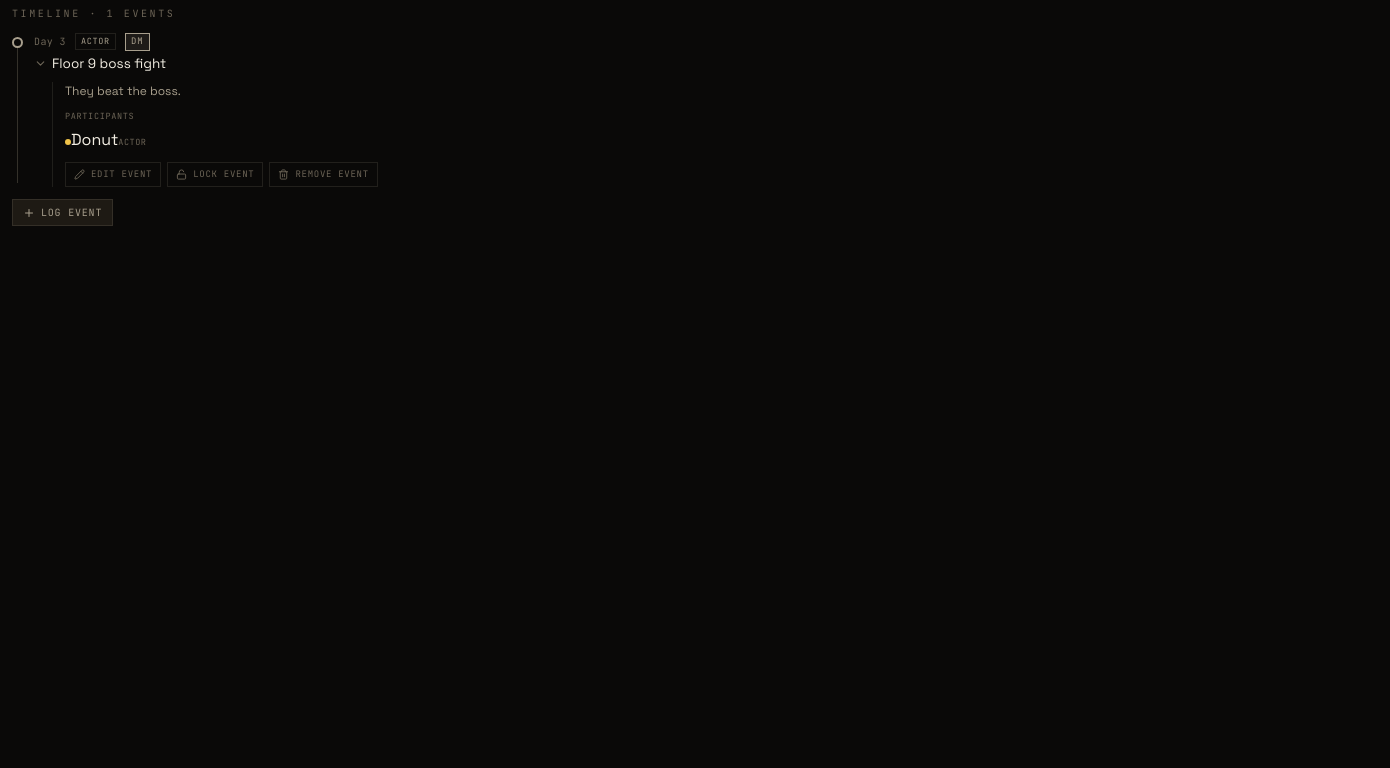
Test case: TimelinePanel › keeps the edit form open and shows the error when an event edit fails
Click the button "Edit event": (113, 174) [65, 162, 161, 187]
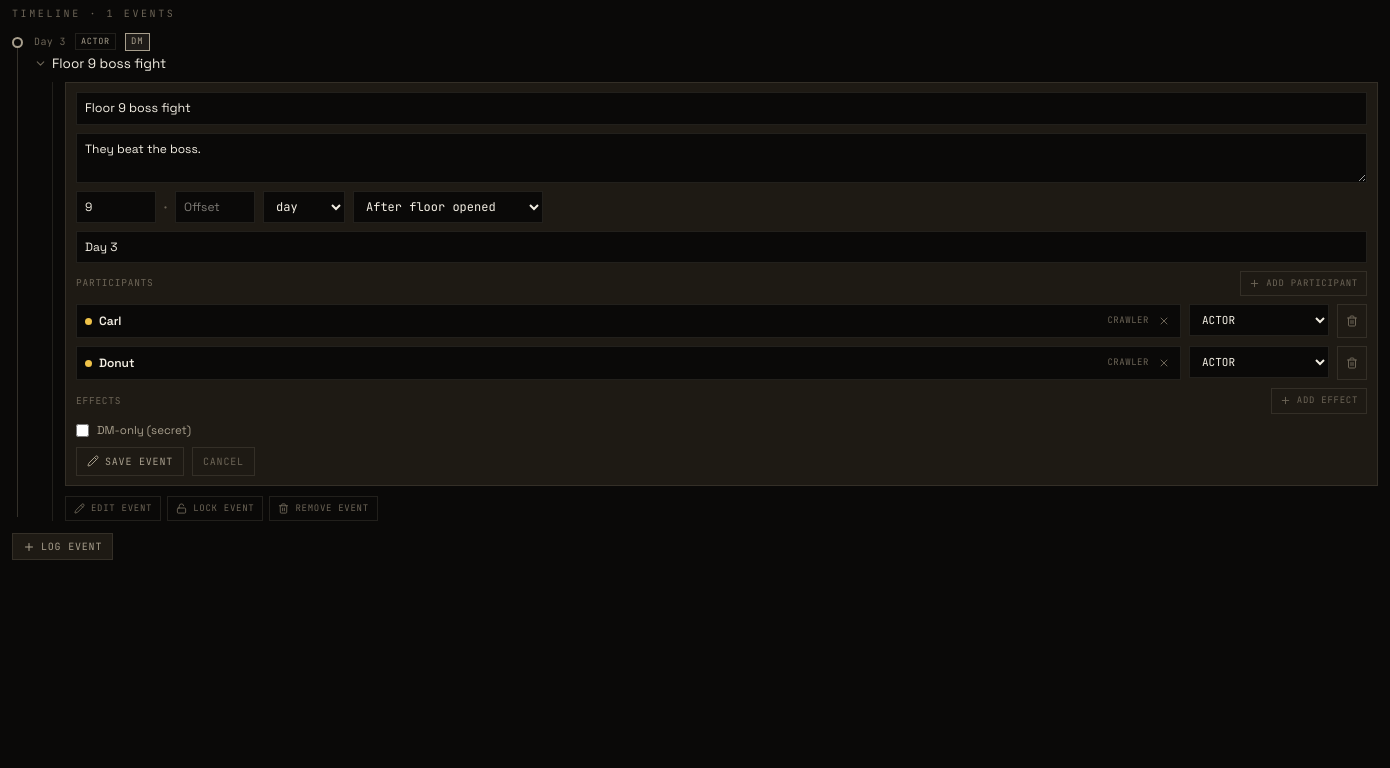
Submit the form named "Event title", box [76, 92, 1367, 439]
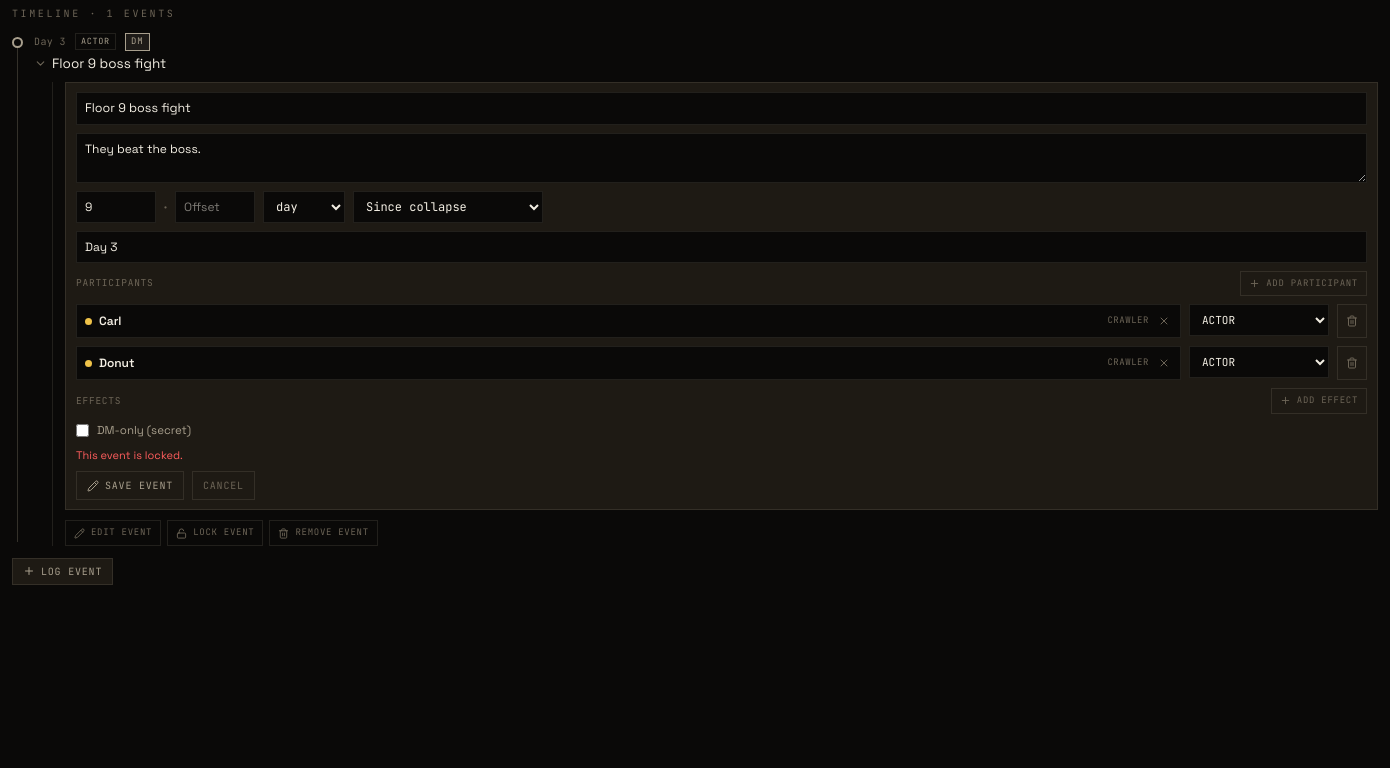
Check: the field named "Event title" is shown, box [76, 92, 1367, 125]
Check: the text "This event is locked." is shown, box [76, 448, 183, 462]
